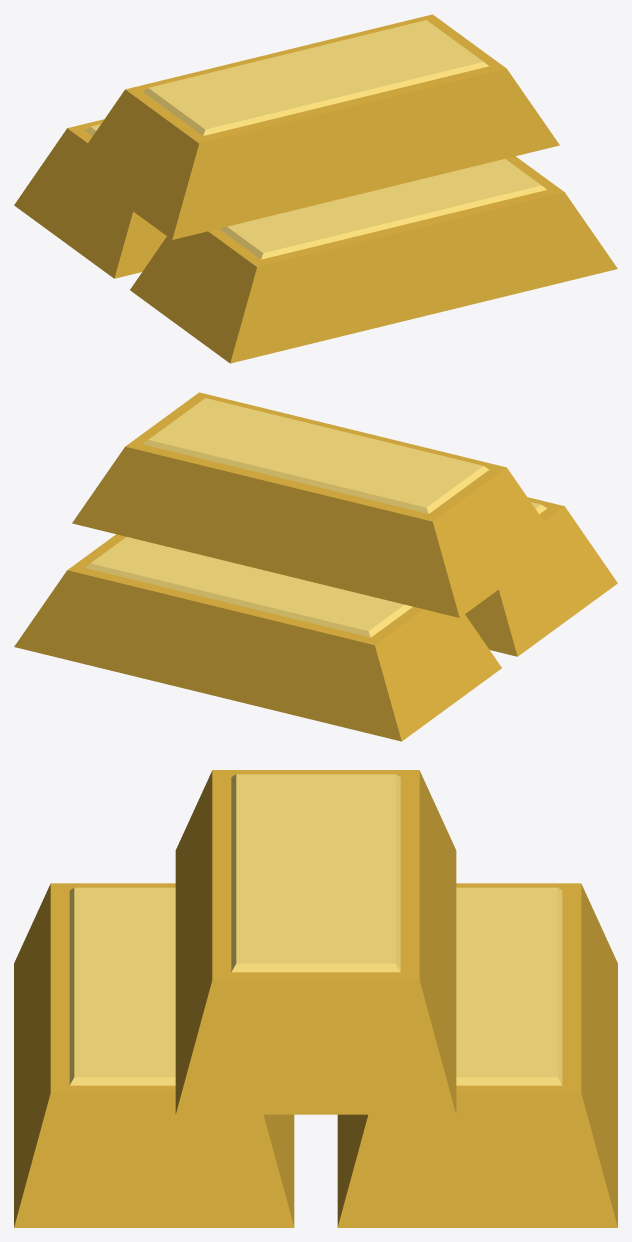
File: drop_bar_gold.glb
The picture shows the model from 3 angles, top to bottom: view 1: azimuth 30°, elevation 25°; view 2: azimuth 150°, elevation 25°; view 3: azimuth 270°, elevation 25°; orthographic projection. The views are drawn at different scales.
Visible parts, largest first — view 1: drop_bar_gold; view 2: drop_bar_gold; view 3: drop_bar_gold.
Part boxes in pixels (x1,y1,x2,y2): drop_bar_gold: (14, 14, 617, 363); drop_bar_gold: (14, 392, 617, 741); drop_bar_gold: (14, 770, 617, 1227).
Size of the model in its own units: 0.29 by 0.116 by 0.28.
